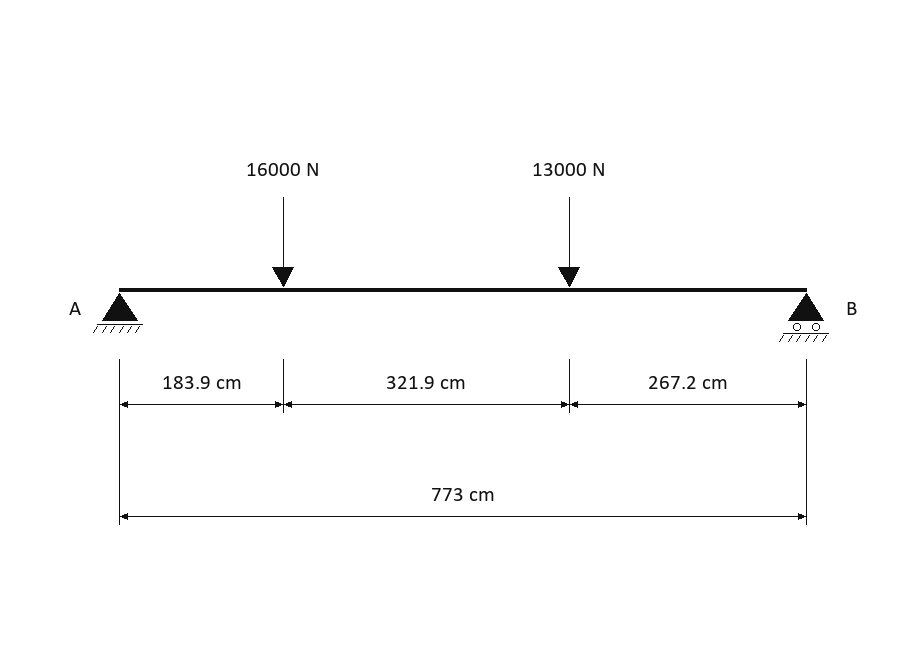pin_support: (93, 293, 143, 333)
point_load: (272, 197, 294, 287), (558, 197, 580, 287)
roller_support: (779, 293, 829, 342)
